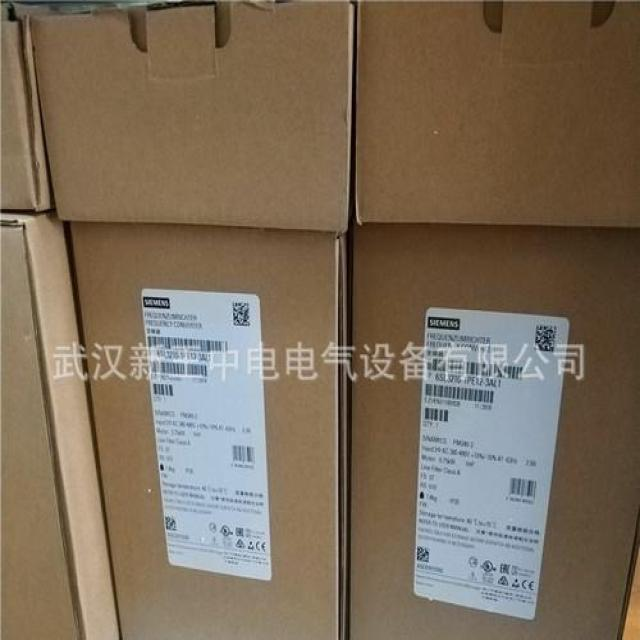box: (345, 223, 639, 638), (64, 219, 345, 637), (27, 1, 353, 234), (356, 3, 639, 232), (0, 208, 119, 639), (0, 6, 52, 214)
